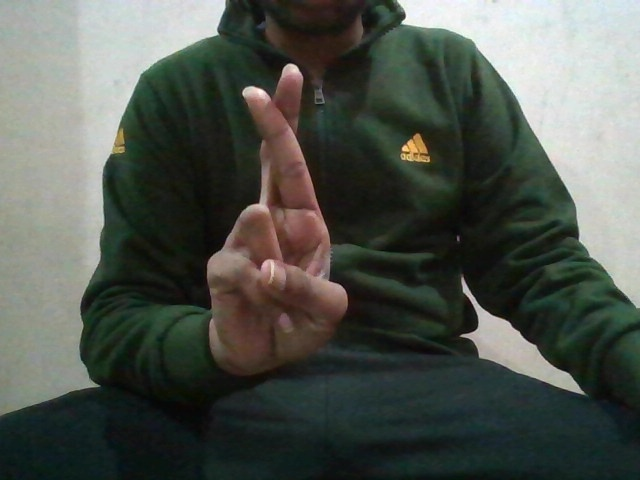R: (200, 63, 355, 354)
